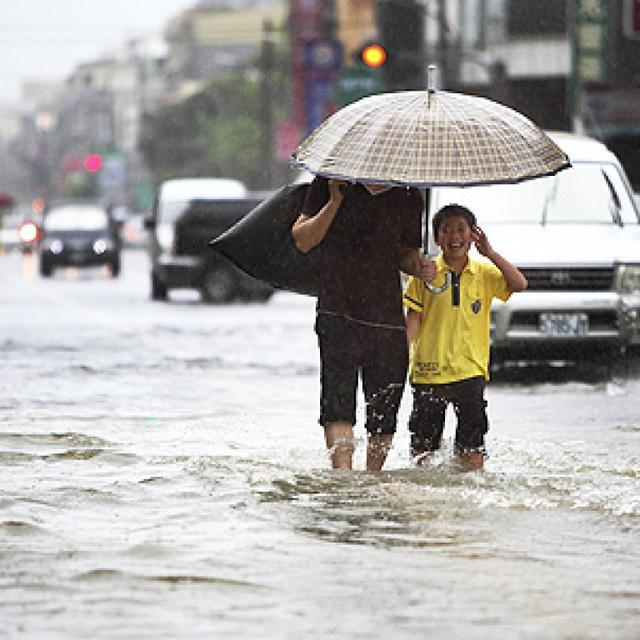Person-RiskLevel2: (291, 113, 435, 481), (399, 206, 533, 471)
